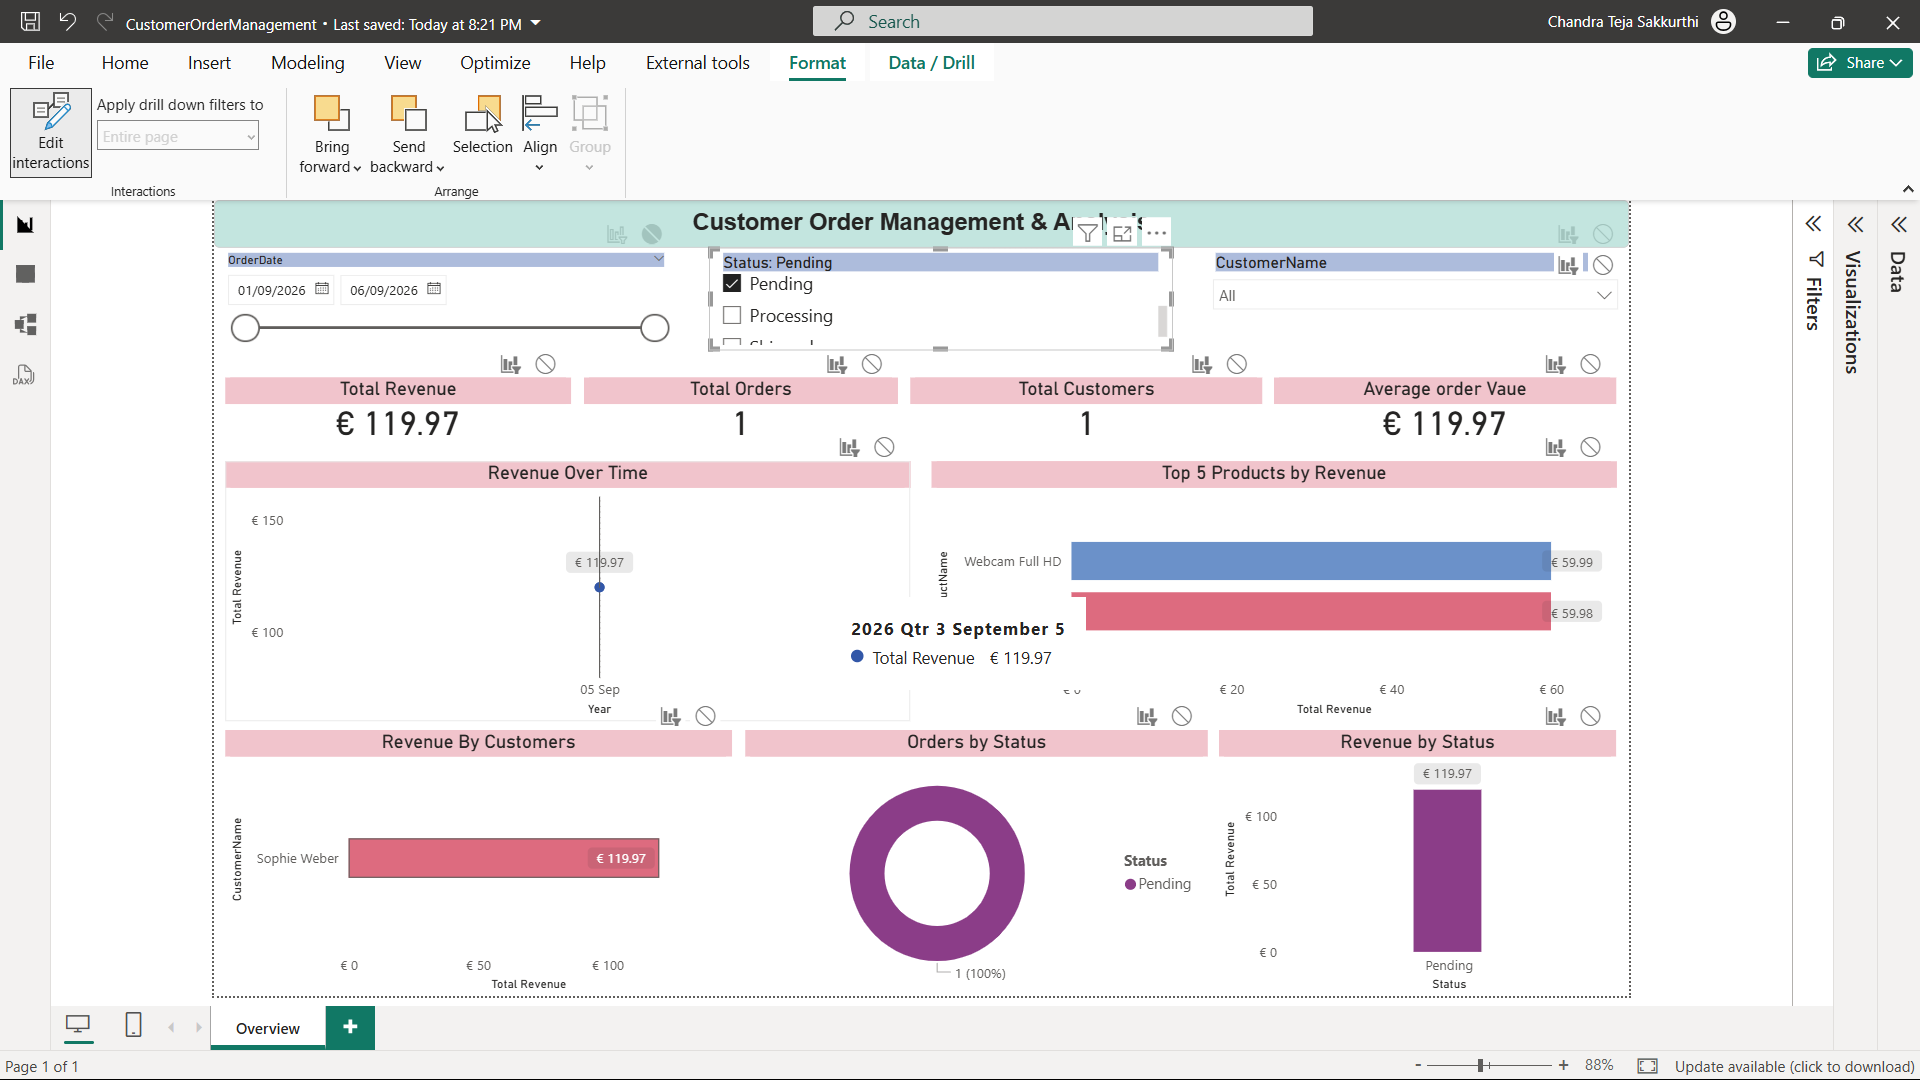

Layout of this report page (visuals, bound fields, positions):
{"tool":"powerbi","page":{"name":"Overview","canvas":[1280,720],"ordinal":0},"visuals":[{"type":"card","title":"Total Revenue","fields":{"Values":["Measures (2).Total Revenue"]},"box":[10.5,160.5,312.8,59.3],"z":0},{"type":"card","title":"Total Orders","fields":{"Values":["Measures (2).Total Orders"]},"box":[334.9,160.5,283.7,59.3],"z":1000},{"type":"card","title":"Total Customers","fields":{"Values":["Measures (2).Total Customers"]},"box":[630.2,160.5,318.6,59.3],"z":2000},{"type":"card","title":"Average order Vaue","fields":{"Values":["Measures (2).Average Order Value"]},"box":[959.3,160.5,309.3,59.3],"z":3000},{"type":"lineChart","title":"Revenue Over Time","fields":{"Y":["Measures (2).Total Revenue"],"Category":["Orders.OrderDate.Variation.Date Hierarchy.Year","Orders.OrderDate.Variation.Date Hierarchy.Quarter","Orders.OrderDate.Variation.Date Hierarchy.Month","Orders.OrderDate.Variation.Date Hierarchy.Day"]},"box":[10.5,236,619.8,234.9],"z":4000},{"type":"clusteredBarChart","title":"Revenue By Customers","fields":{"Category":["Customers.CustomerName"],"Y":["Measures (2).Total Revenue"],"Series":["Customers.CustomerID"]},"box":[10.5,479.1,458.1,240.7],"z":5000},{"type":"barChart","title":"Top 5 Products by Revenue","fields":{"Category":["Products.ProductName"],"Y":["Measures (2).Total Revenue"],"Series":["Products.ProductName"]},"box":[648.8,236,619.8,234.9],"z":6000},{"type":"slicer","title":"Date","fields":{"Values":["Orders.OrderDate"]},"box":[0,42.5,419.9,93.3],"z":7000},{"type":"slicer","fields":{"Values":["Orders.Status"]},"box":[447.7,43,419.8,93],"z":8000},{"type":"slicer","fields":{"Values":["Customers.CustomerName"]},"box":[893.3,42.5,387,93.3],"z":9000},{"type":"textbox","box":[0,0,1279.9,43],"z":10000},{"type":"clusteredColumnChart","title":"Revenue by Status","fields":{"Category":["Orders.Status"],"Y":["Measures (2).Total Revenue"],"Series":["Orders.Status"]},"box":[909.3,479.1,359.3,240.7],"z":11000},{"type":"donutChart","title":"Orders by Status","fields":{"Category":["Orders.Status"],"Y":["Measures (2).Total Orders by Product"]},"box":[480.2,479.1,418.6,240.7],"z":12000}]}

Visuals, with their boxes on the page's 1280x720 design canvas (x1, y1, x2, y2). These are canvas units, not pixel positions in the 1920x1080 screenshot, which may show the page scaled, cropped or inside an application window:
"Total Revenue" card: x1=10 y1=160 x2=323 y2=220
"Total Orders" card: x1=335 y1=160 x2=619 y2=220
"Total Customers" card: x1=630 y1=160 x2=949 y2=220
"Average order Vaue" card: x1=959 y1=160 x2=1269 y2=220
"Revenue Over Time" lineChart: x1=10 y1=236 x2=630 y2=471
"Revenue By Customers" clusteredBarChart: x1=10 y1=479 x2=469 y2=720
"Top 5 Products by Revenue" barChart: x1=649 y1=236 x2=1269 y2=471
"Date" slicer: x1=0 y1=42 x2=420 y2=136
slicer - Orders.Status: x1=448 y1=43 x2=868 y2=136
slicer - Customers.CustomerName: x1=893 y1=42 x2=1280 y2=136
textbox: x1=0 y1=0 x2=1280 y2=43
"Revenue by Status" clusteredColumnChart: x1=909 y1=479 x2=1269 y2=720
"Orders by Status" donutChart: x1=480 y1=479 x2=899 y2=720
